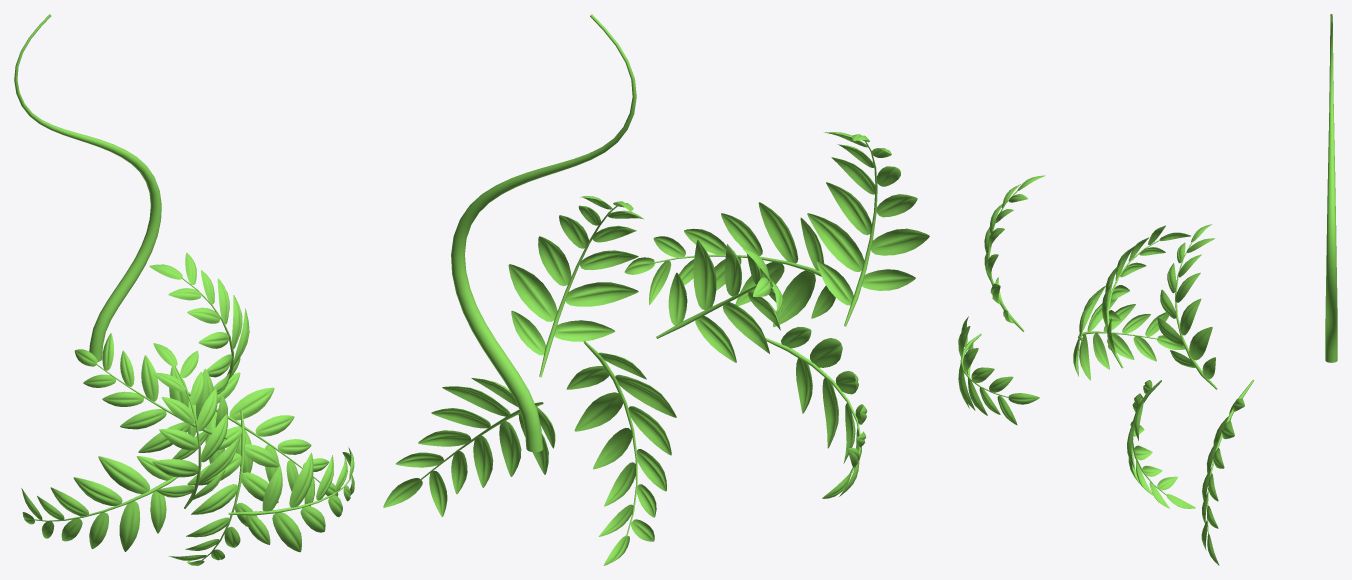
Rendered from 046-growth.fbx.
3 views of the same model, side by side, from view 1: azimuth 30°, elevation 25°; view 2: azimuth 150°, elevation 25°; view 3: azimuth 270°, elevation 25° (orthographic). The views are drawn at different scales.
Parts seen in each view (by area): view 1: Vert.007, Vert8Anim, Vert.006, Vert.009, Vert.005, Vert2AnimRoot, Vert.003, Vert.004; view 2: Vert.004, Vert8Anim, Vert.005, Vert.009, Vert.003, Vert2AnimRoot, Vert.006, Vert.007; view 3: Vert.004, Vert.007, Vert2AnimRoot, Vert.009, Vert.005, Vert.006, Vert.003, Vert8Anim.
Boxes of the visible parts, <box> form: Vert.007: <box>21,456,177,551</box>; Vert8Anim: <box>152,343,240,508</box>; Vert.006: <box>74,333,227,459</box>; Vert.009: <box>228,447,354,552</box>; Vert.005: <box>168,410,280,565</box>; Vert2AnimRoot: <box>14,14,161,361</box>; Vert.003: <box>187,372,338,506</box>; Vert.004: <box>149,252,249,394</box>; Vert.004: <box>508,196,643,377</box>; Vert8Anim: <box>807,132,929,326</box>; Vert.005: <box>566,341,676,565</box>; Vert.009: <box>624,202,835,326</box>; Vert.003: <box>383,378,555,516</box>; Vert2AnimRoot: <box>451,14,636,452</box>; Vert.006: <box>656,240,782,362</box>; Vert.007: <box>765,326,867,498</box>; Vert.004: <box>1157,224,1217,389</box>; Vert.007: <box>1073,286,1185,380</box>; Vert2AnimRoot: <box>1325,14,1337,362</box>; Vert.009: <box>958,316,1039,424</box>; Vert.005: <box>1127,380,1195,508</box>; Vert.006: <box>1102,225,1190,368</box>; Vert.003: <box>1201,379,1254,565</box>; Vert8Anim: <box>984,175,1045,331</box>.
Bounding box in the file's own units: 622 × 877 × 648.
